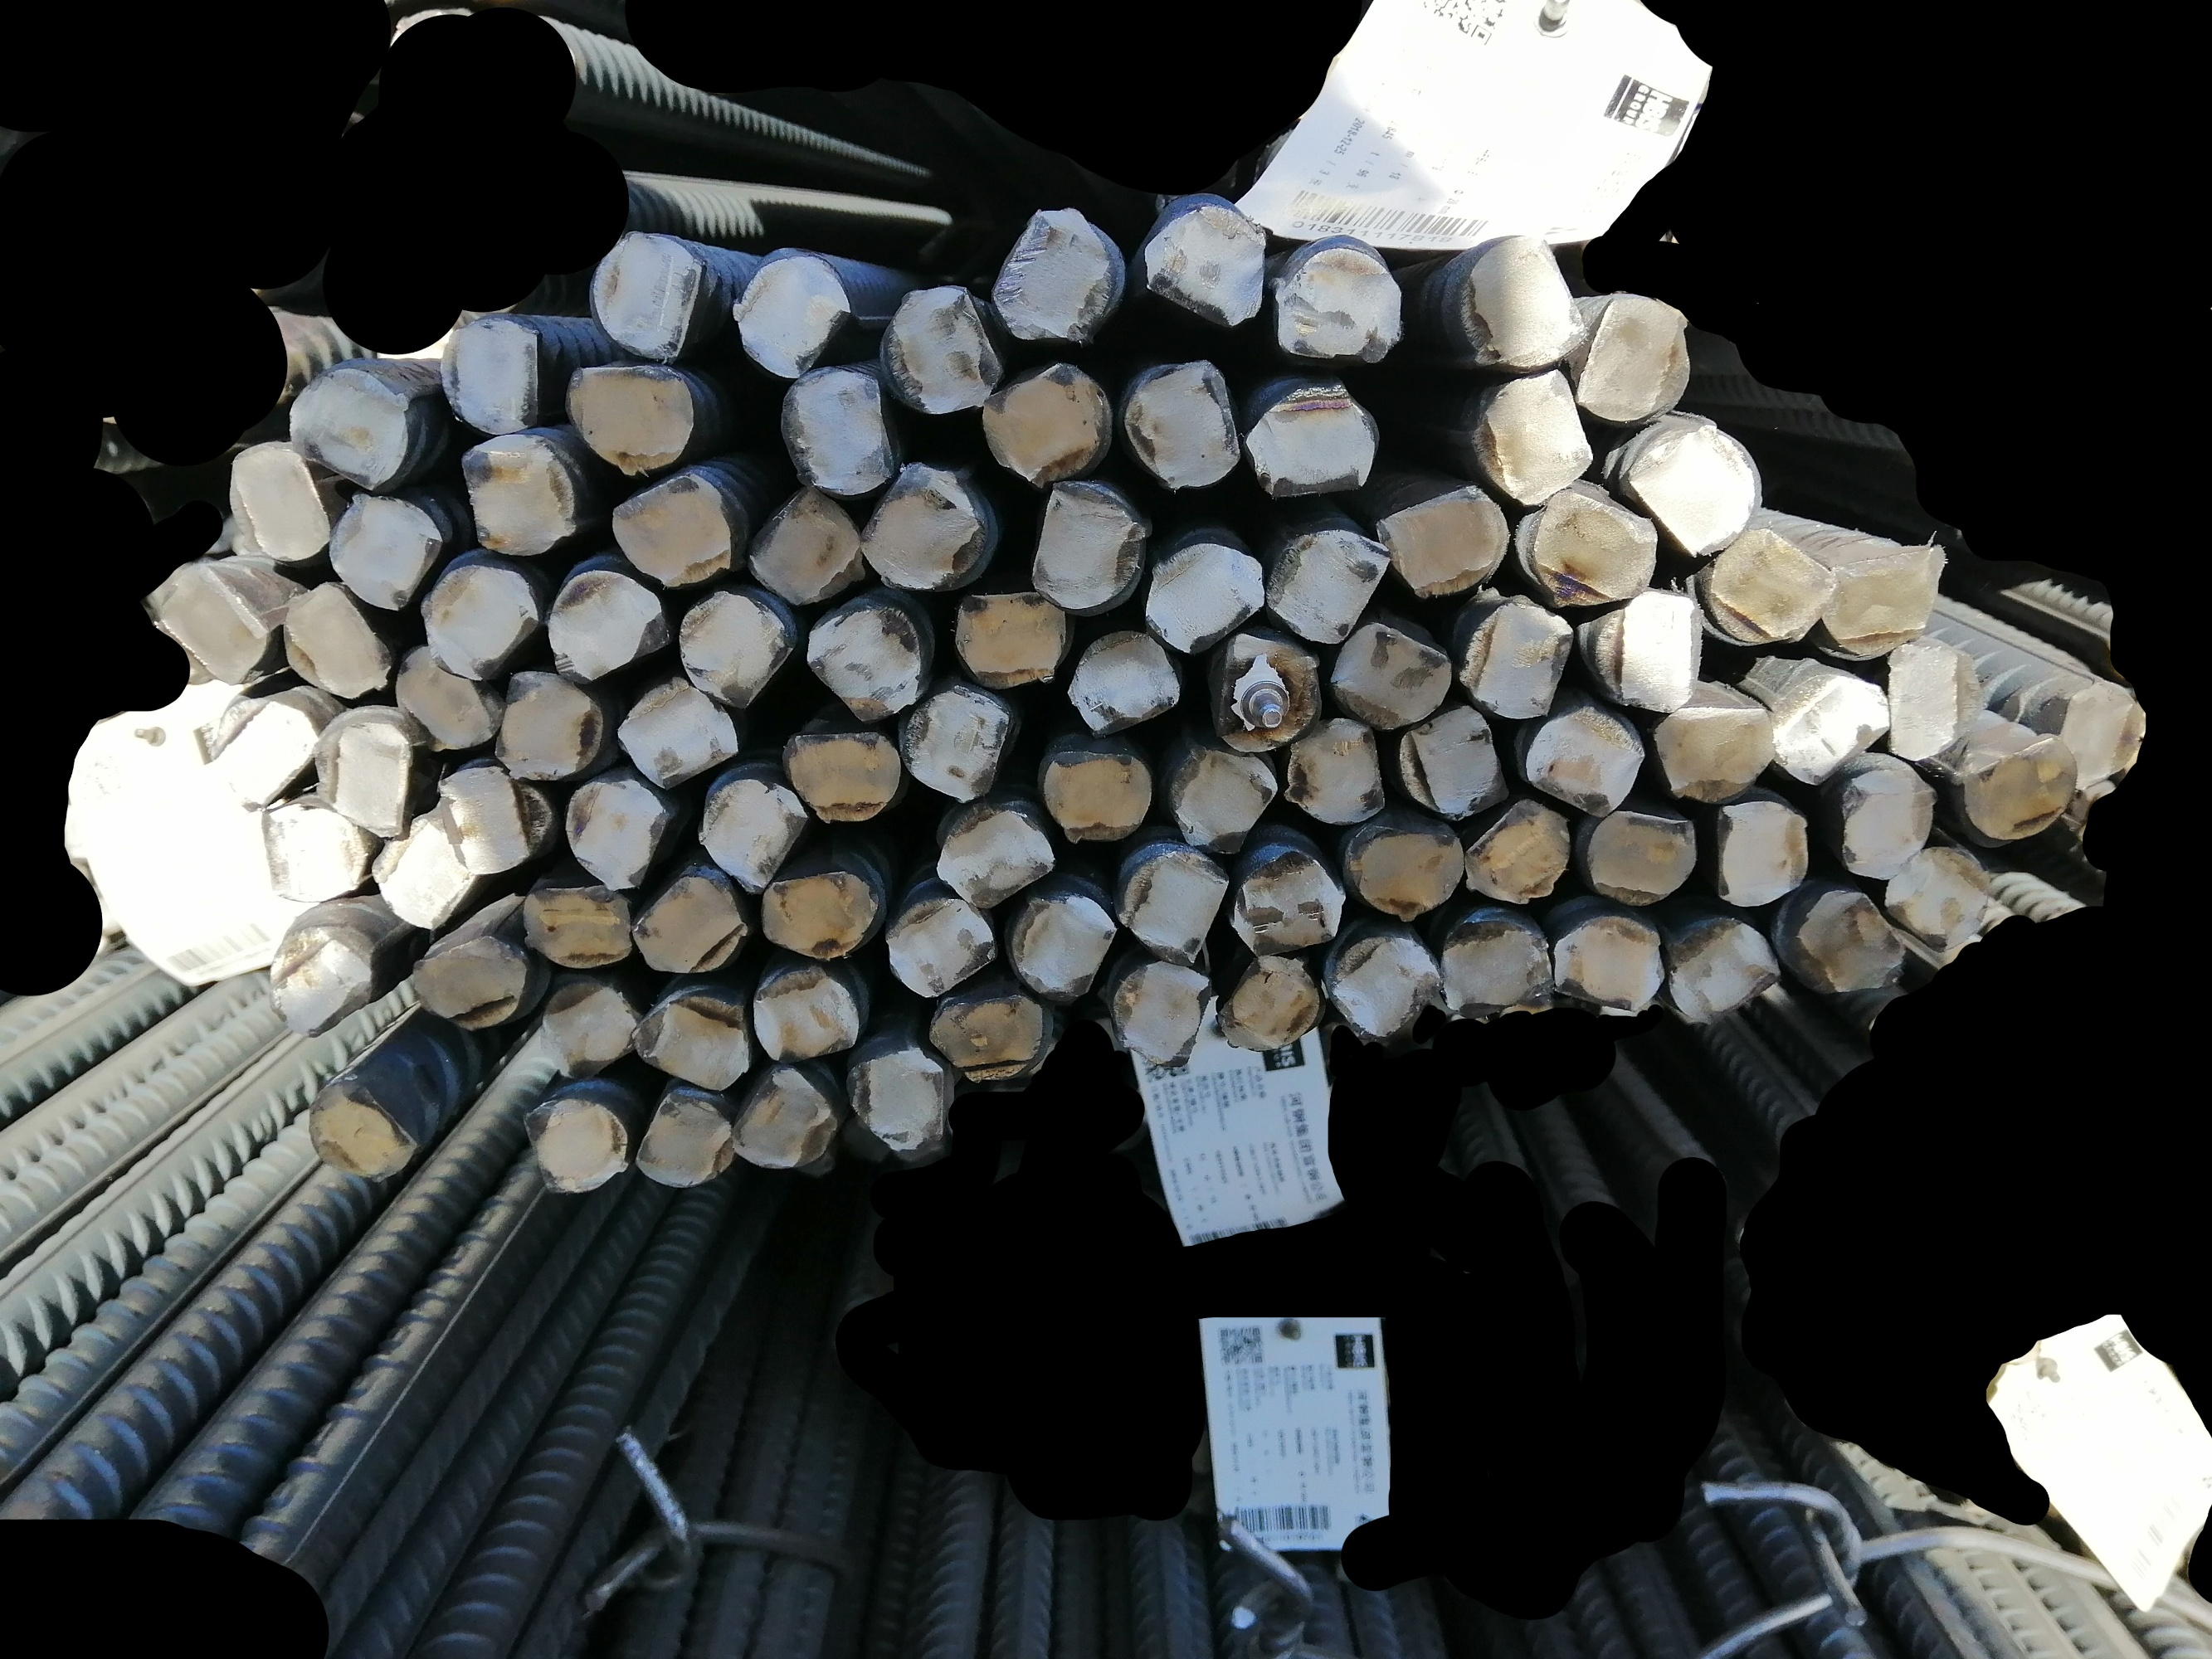rebar: (1621, 413, 1762, 563), (1515, 479, 1661, 608), (1452, 232, 1588, 368), (994, 204, 1117, 349), (288, 361, 418, 495), (1272, 239, 1407, 368), (727, 247, 851, 383), (882, 277, 1002, 415), (193, 694, 326, 817), (1706, 523, 1841, 645), (863, 458, 981, 596), (1476, 369, 1595, 507), (417, 558, 544, 685), (983, 362, 1110, 488), (1123, 359, 1243, 491), (1572, 293, 1693, 425), (1374, 479, 1508, 598), (587, 227, 704, 362), (1262, 521, 1389, 645), (1145, 199, 1267, 328), (779, 366, 898, 498), (1243, 385, 1377, 502), (1201, 627, 1325, 753), (457, 432, 580, 556), (155, 559, 275, 687), (605, 472, 734, 591), (1818, 538, 1944, 659), (744, 483, 863, 610), (328, 486, 444, 615), (1028, 476, 1145, 605), (1461, 592, 1576, 723), (1956, 730, 2081, 849), (565, 361, 695, 474), (1768, 671, 1898, 784), (676, 587, 795, 711), (615, 676, 743, 791), (547, 566, 673, 681), (694, 772, 809, 897), (1522, 704, 1647, 819), (1590, 589, 1705, 714), (807, 605, 924, 727), (1327, 620, 1452, 734), (901, 681, 1013, 807), (1145, 542, 1271, 653), (1884, 633, 1987, 769), (312, 711, 418, 842), (427, 763, 551, 875), (368, 805, 474, 934), (307, 1068, 424, 1185), (277, 584, 392, 702), (1116, 847, 1229, 967), (1011, 884, 1123, 1004), (1398, 701, 1510, 821), (1435, 917, 1555, 1028), (249, 796, 371, 906), (225, 441, 333, 565), (434, 312, 542, 436), (934, 803, 1056, 911), (1227, 849, 1349, 957), (1166, 742, 1281, 856), (486, 669, 605, 779), (1069, 633, 1187, 742), (561, 770, 669, 890), (628, 990, 751, 1093), (263, 925, 377, 1037), (729, 1066, 842, 1178), (1330, 934, 1445, 1044), (1347, 819, 1469, 922), (1654, 699, 1776, 802), (1105, 957, 1213, 1072), (955, 587, 1074, 692), (629, 870, 750, 972), (1834, 762, 1937, 882), (1670, 915, 1778, 1028), (392, 645, 502, 755), (1794, 887, 1907, 993), (847, 1047, 952, 1162), (1279, 720, 1391, 826), (1884, 845, 1996, 951), (882, 892, 995, 995), (1469, 798, 1572, 910), (1584, 807, 1701, 904), (784, 728, 901, 824), (521, 1094, 629, 1197), (760, 871, 880, 964), (417, 932, 526, 1033), (750, 964, 861, 1063), (2052, 680, 2151, 791), (1551, 915, 1665, 1012), (1042, 749, 1159, 843), (1217, 951, 1323, 1054), (1713, 802, 1813, 911), (933, 993, 1048, 1086), (519, 880, 634, 965), (634, 1094, 737, 1188), (540, 981, 636, 1075)
